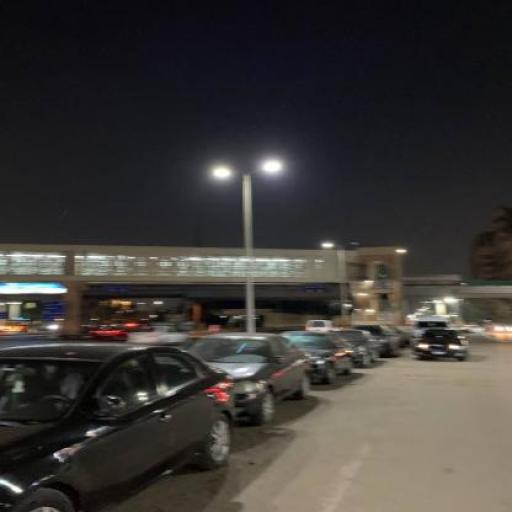street light: (214, 160, 281, 334), (322, 242, 346, 328)
